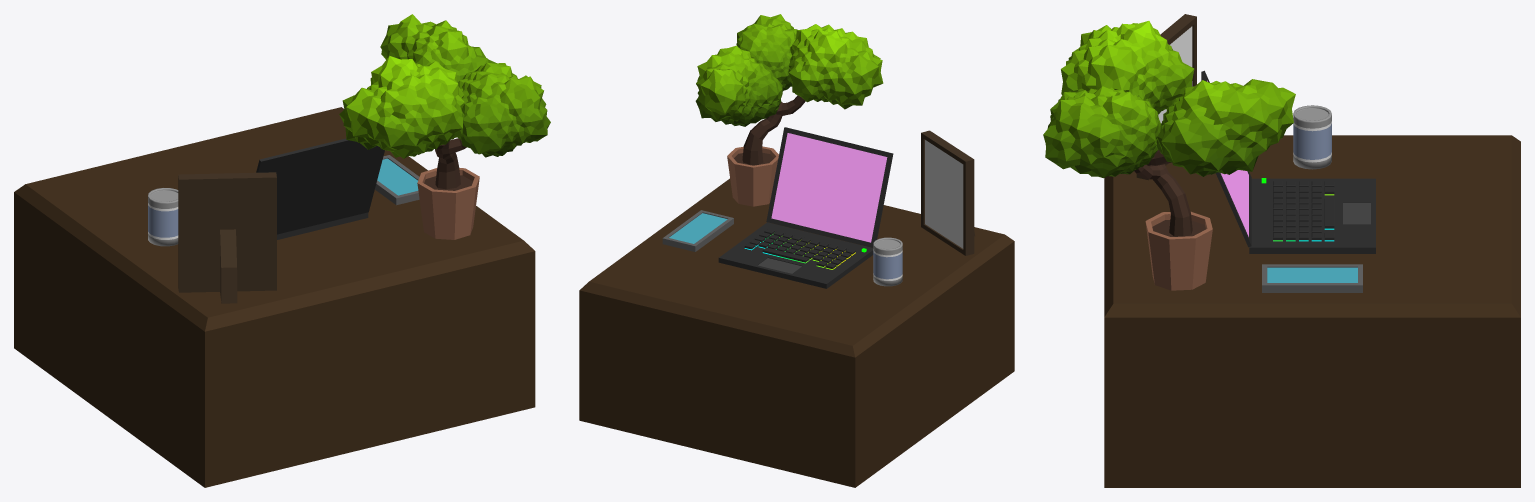
The model's file is Imphenzia-PixPal.glb.
3 views of the same model, side by side, from view 1: azimuth 30°, elevation 25°; view 2: azimuth 150°, elevation 25°; view 3: azimuth 270°, elevation 25° (orthographic). The views are drawn at different scales.
Visible parts, largest first — view 1: Cube, Bonzai, Mirror, Laptop, Tin, Phone; view 2: Cube, Bonzai, Laptop, Mirror, Phone, Tin; view 3: Cube, Bonzai, Laptop, Phone, Tin, Mirror.
Boxes of the visible parts, left/top/right/bottom form: Cube: left=14, top=107, right=535, bottom=487; Bonzai: left=339, top=14, right=550, bottom=239; Mirror: left=178, top=172, right=276, bottom=303; Laptop: left=256, top=138, right=384, bottom=239; Tin: left=148, top=187, right=178, bottom=246; Phone: left=375, top=155, right=419, bottom=205; Cube: left=579, top=178, right=1014, bottom=487; Bonzai: left=695, top=14, right=883, bottom=206; Laptop: left=718, top=127, right=893, bottom=288; Mirror: left=921, top=130, right=974, bottom=255; Phone: left=662, top=210, right=733, bottom=251; Tin: left=873, top=237, right=902, bottom=286; Cube: left=1104, top=135, right=1520, bottom=487; Bonzai: left=1043, top=21, right=1295, bottom=290; Laptop: left=1201, top=70, right=1375, bottom=253; Phone: left=1262, top=264, right=1362, bottom=292; Tin: left=1293, top=105, right=1331, bottom=169; Mirror: left=1136, top=14, right=1196, bottom=180.
Size of the model in its own units: 2.12 by 2.22 by 2.4.
1 material, 1 textured.
